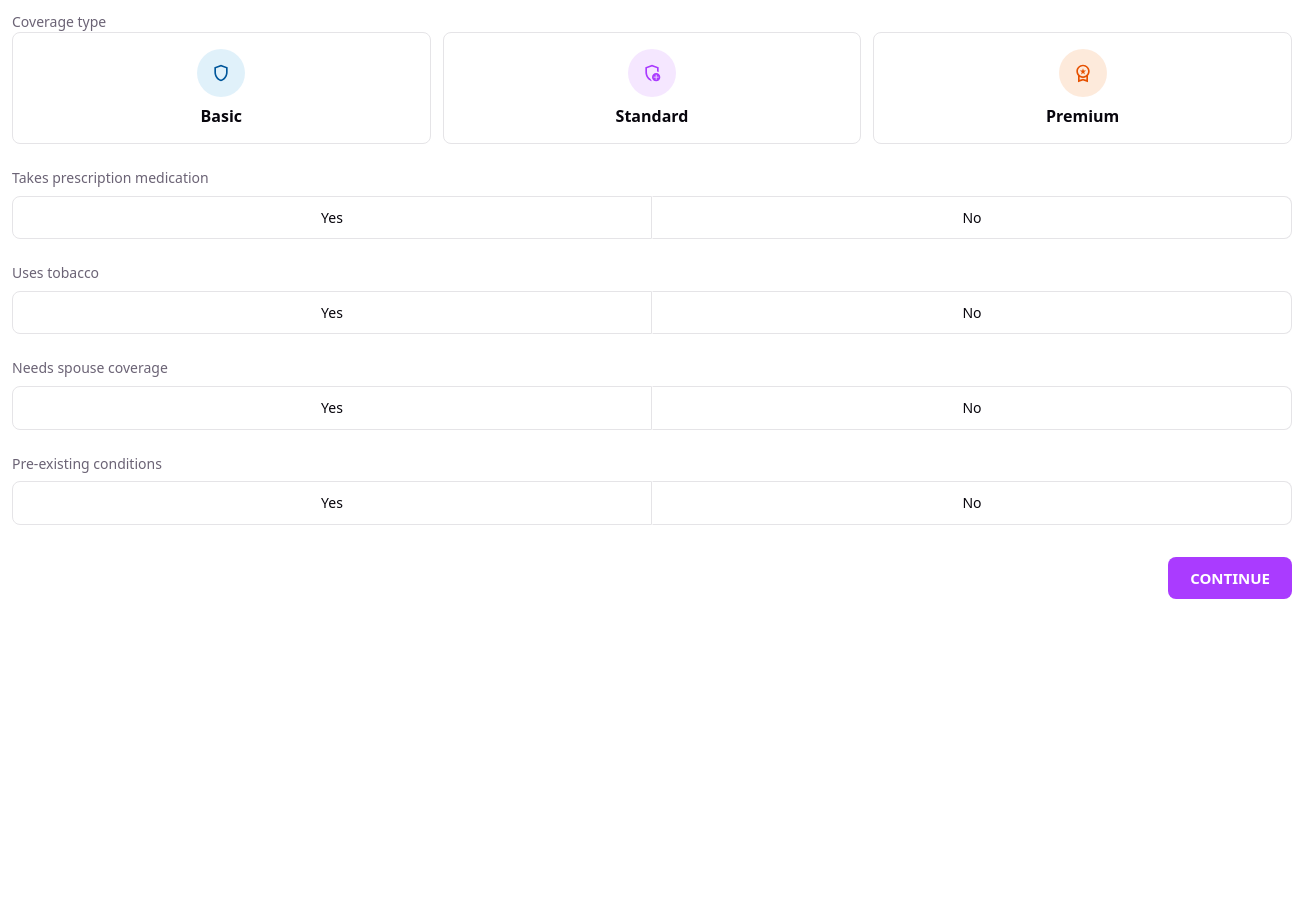
CoverageForm › given_seniorWithoutPreexistingAnswer_when_submitted_then_showsError
Click the radio button labelled "Basic" at (221, 88), box [197,49,245,127]
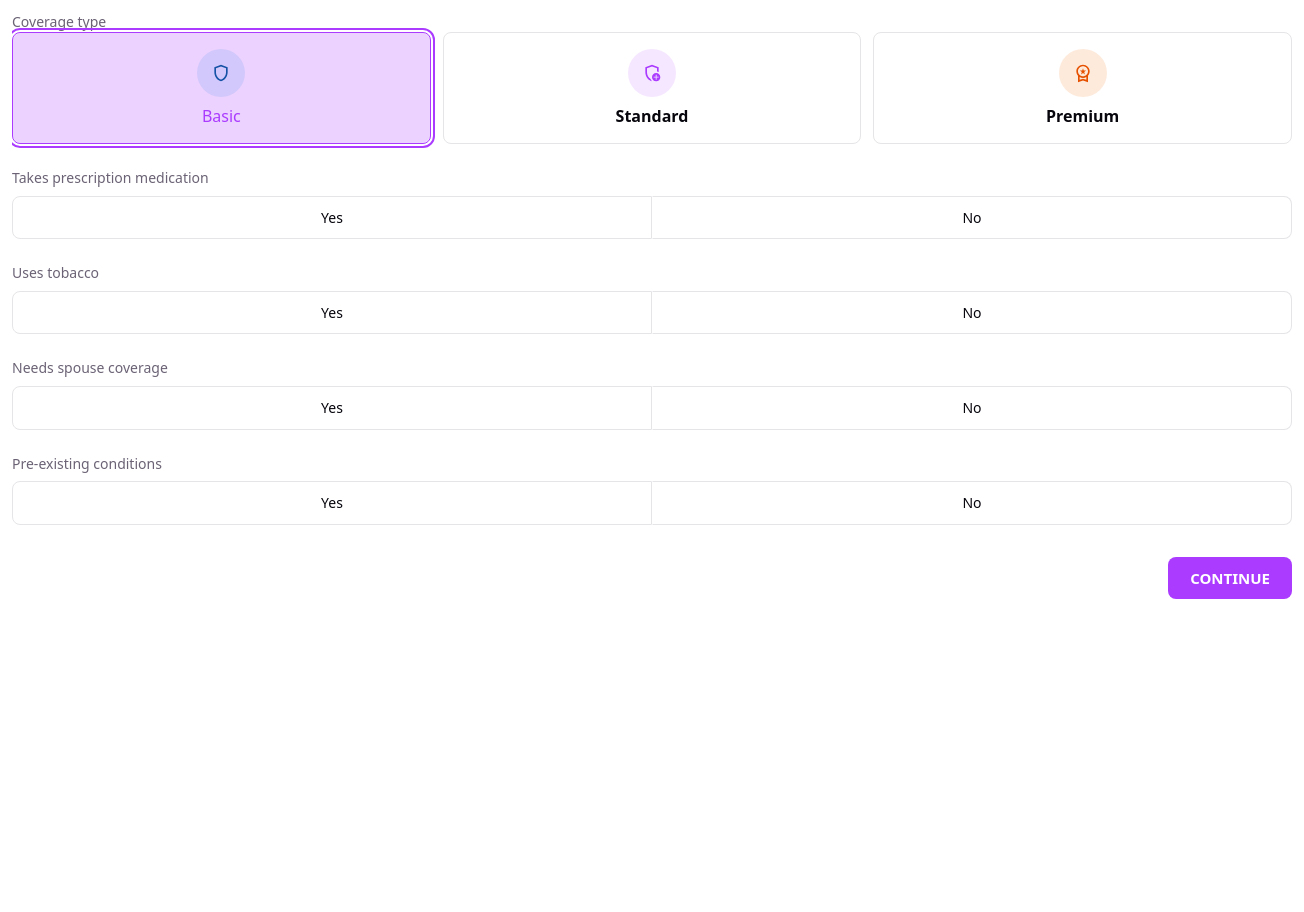
Click the button with aria-label "takes prescription medication, no" at (972, 217), box [652,196,1292,239]
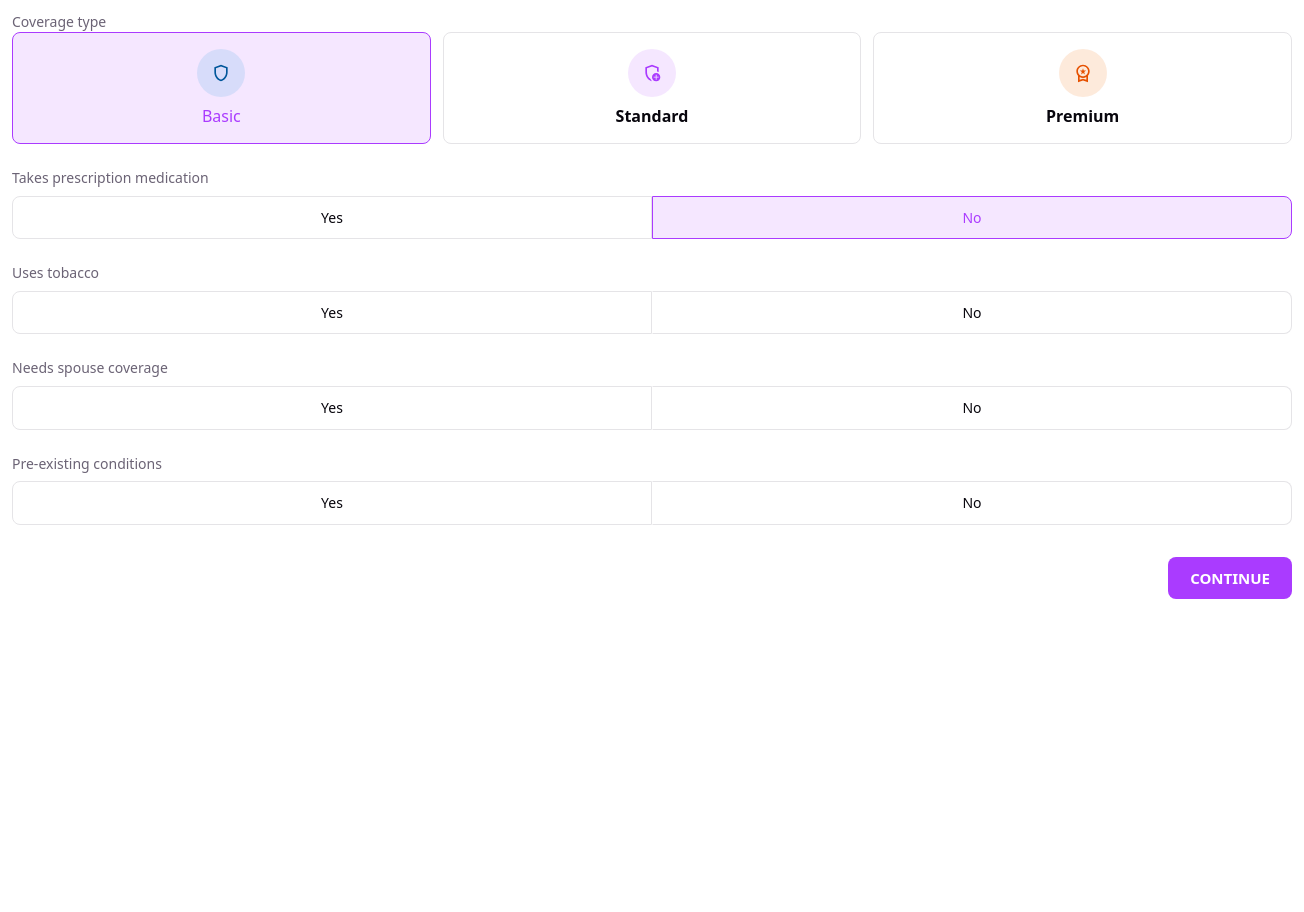
Click the button with aria-label "uses tobacco, yes" at (332, 313), box [12,291,652,334]
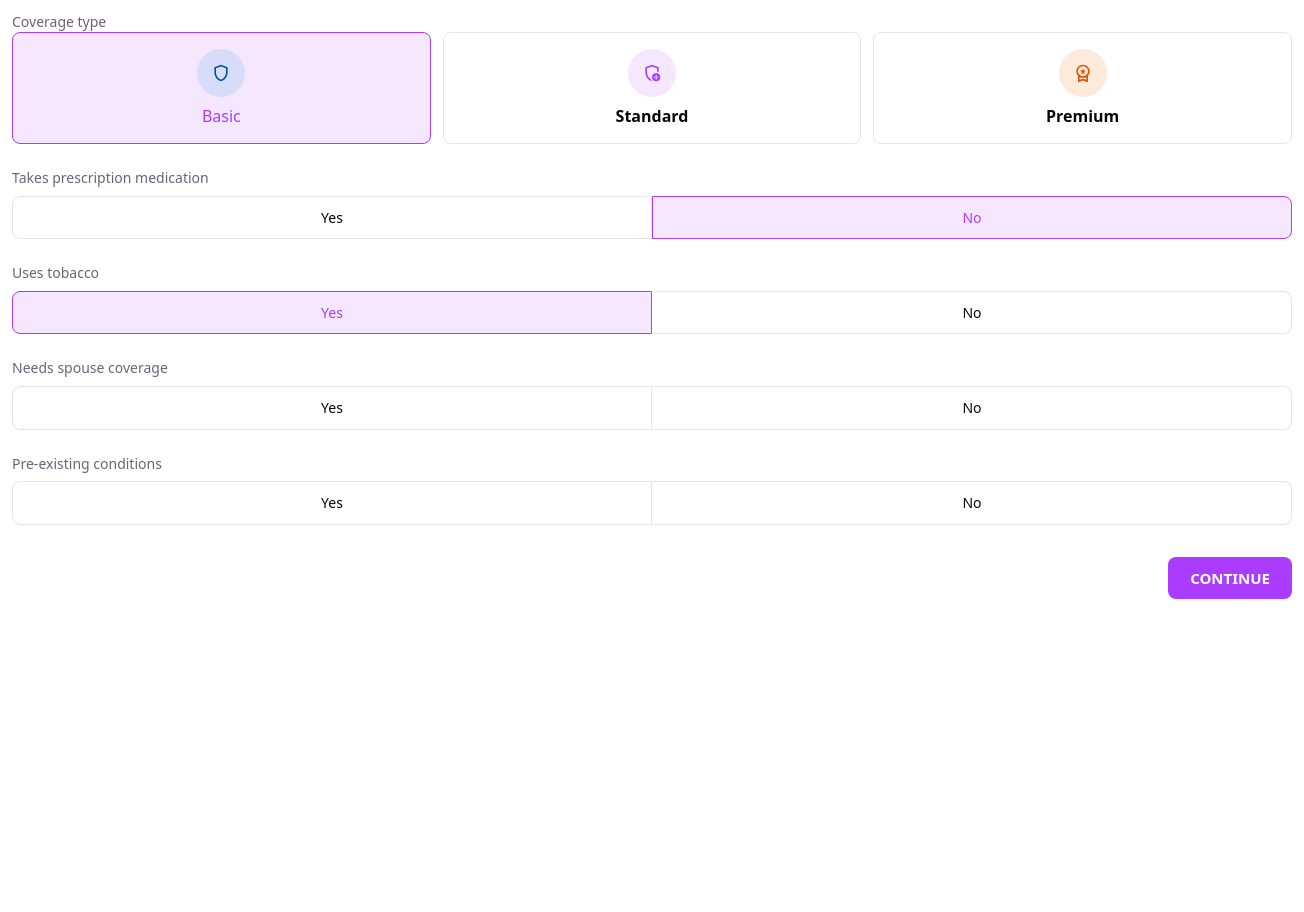
Click the button with aria-label "needs spouse coverage, no" at (972, 408), box [652,386,1292,430]
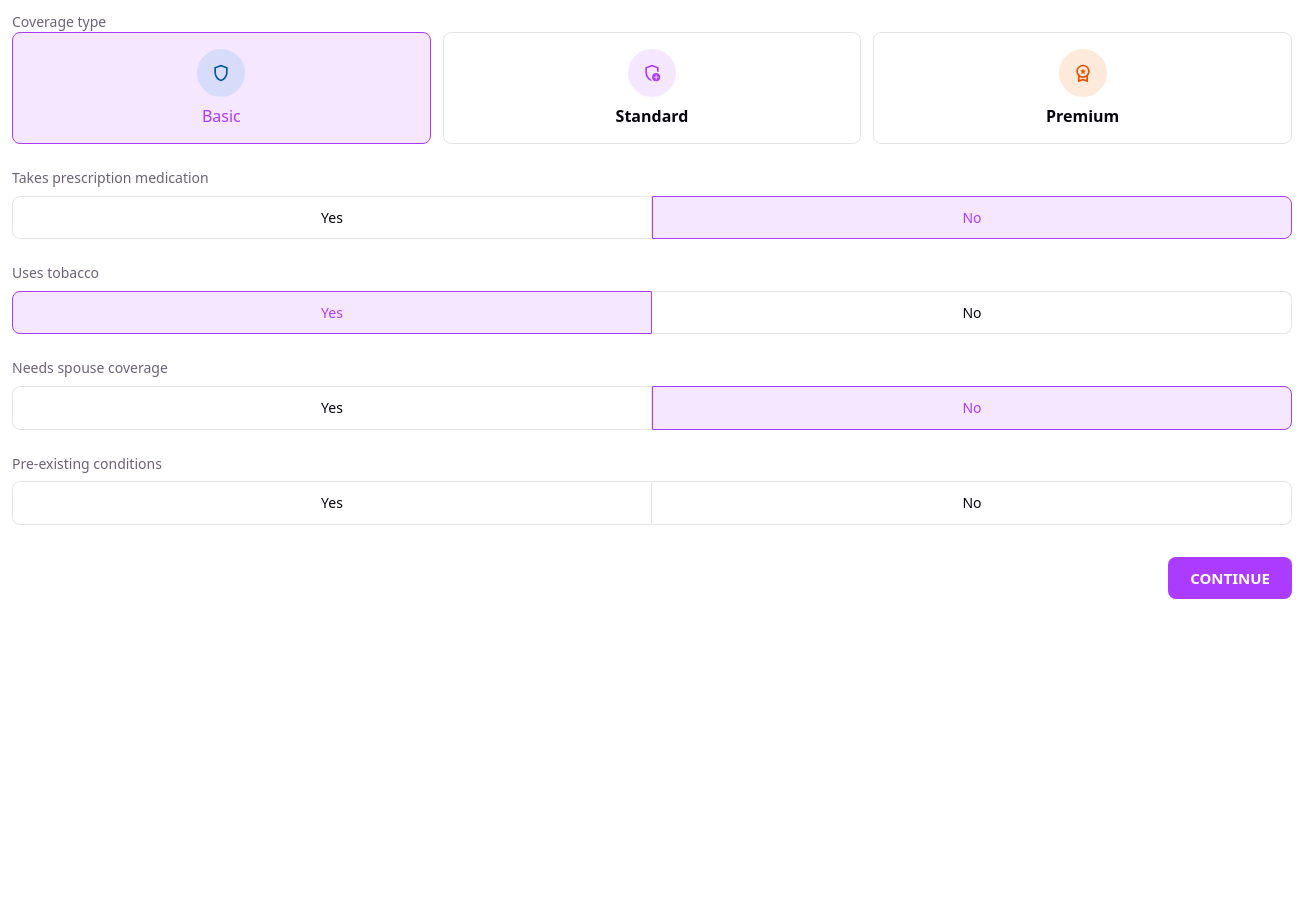
Click the button "Continue" at (1230, 578), box [1168,557,1292,599]
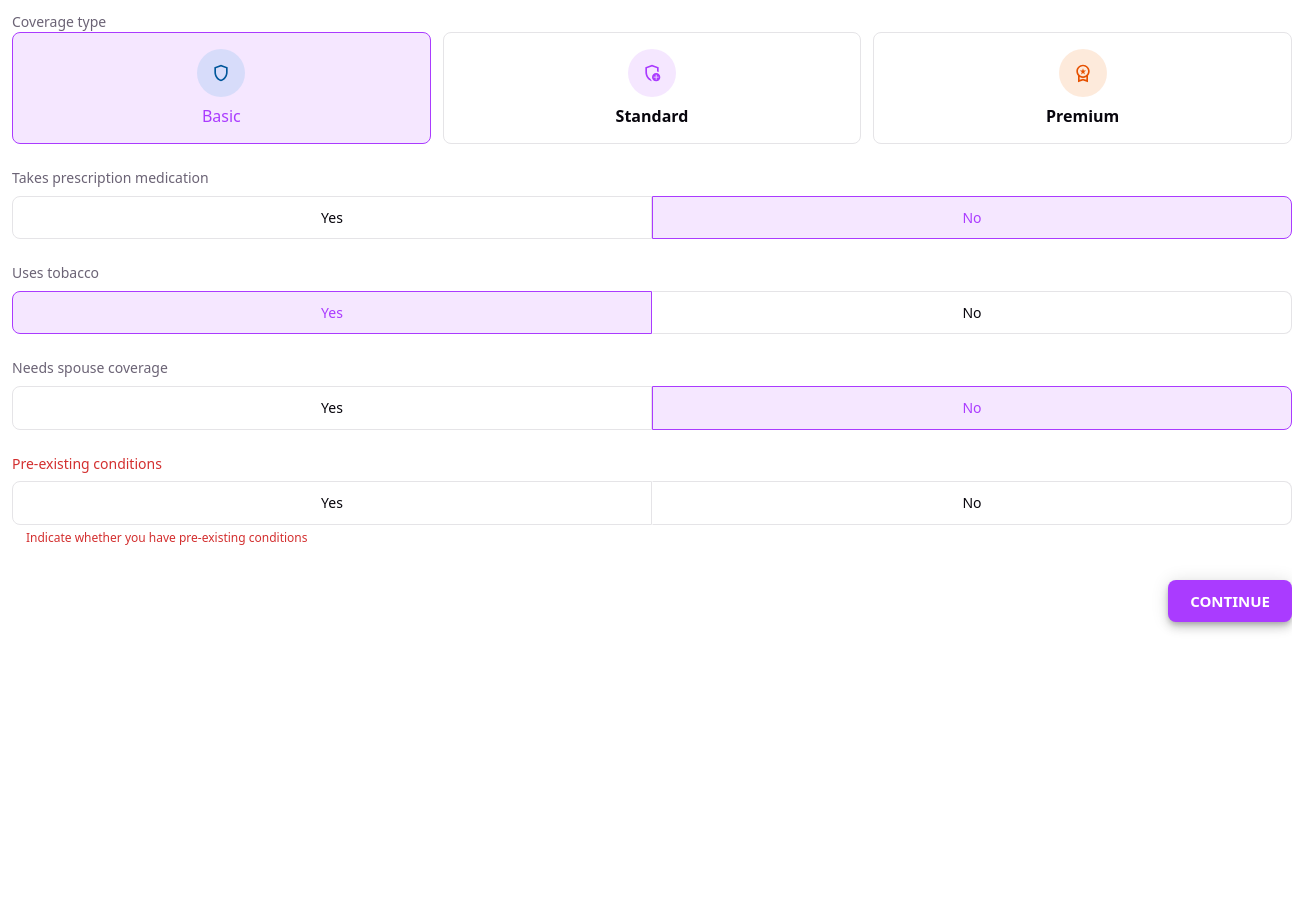
Now the text "Indicate whether you have pre-existing conditions" is shown, box [26,529,308,546]
